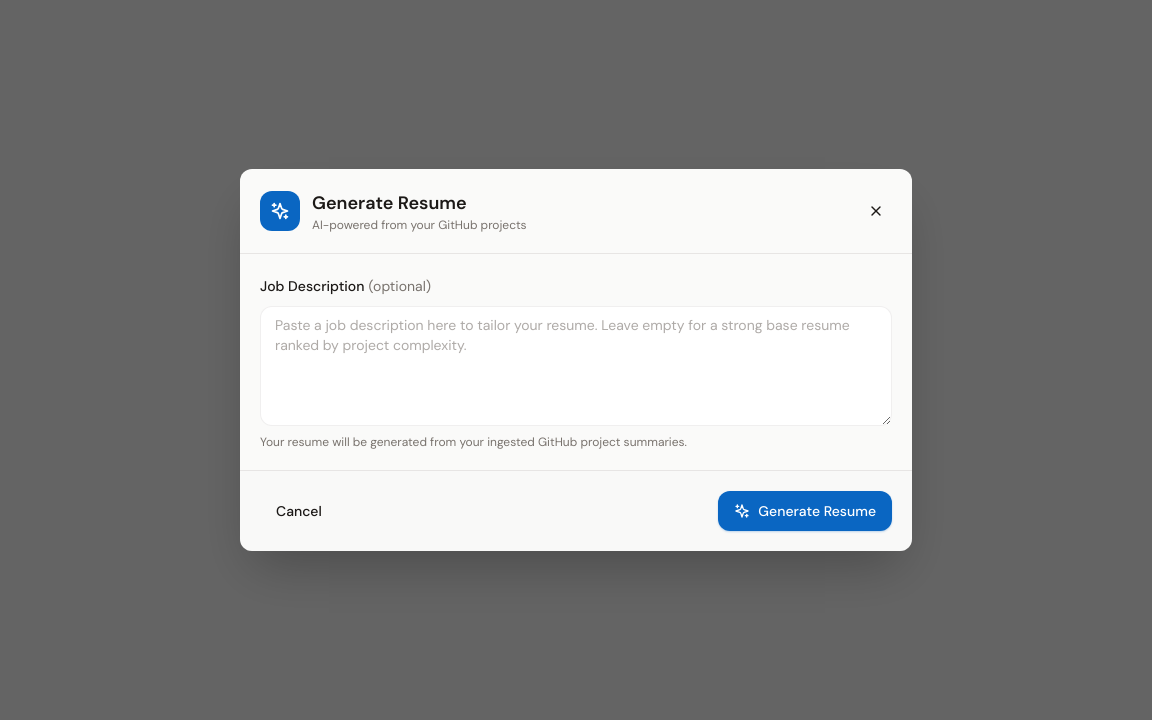
Test: ResumeGenerator › shows the API reason when generation fails
The width and height of the screenshot is (1152, 720).
Click the button "Generate Resume". click: [805, 511]
box: [718, 491, 892, 531]
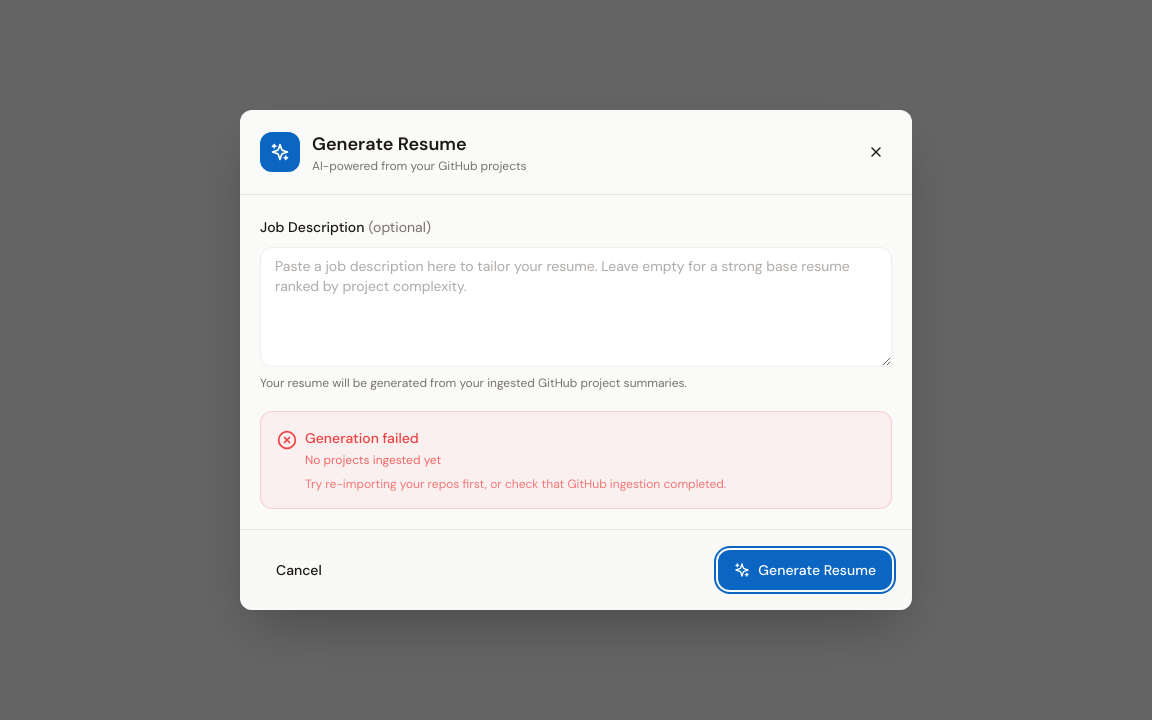
Expected: the text "No projects ingested yet" is shown, [305, 452, 441, 468]
